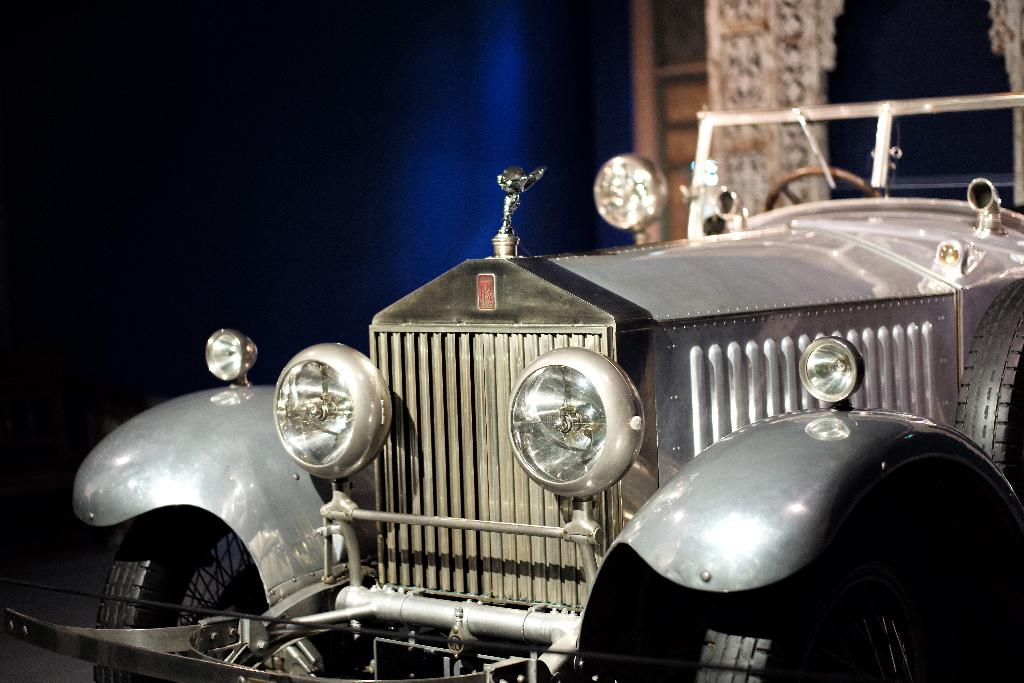Car: (0, 90, 1023, 682)
